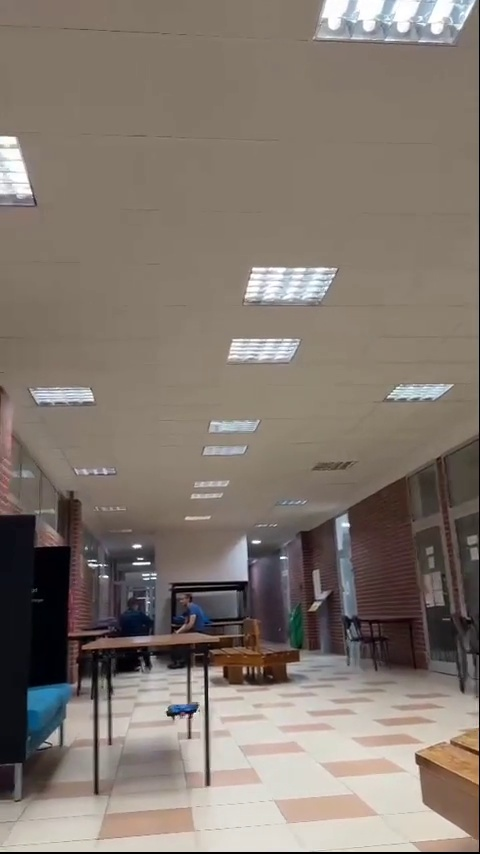drone: (167, 702, 199, 718)
no vest: (176, 593, 208, 631), (124, 598, 147, 635)
